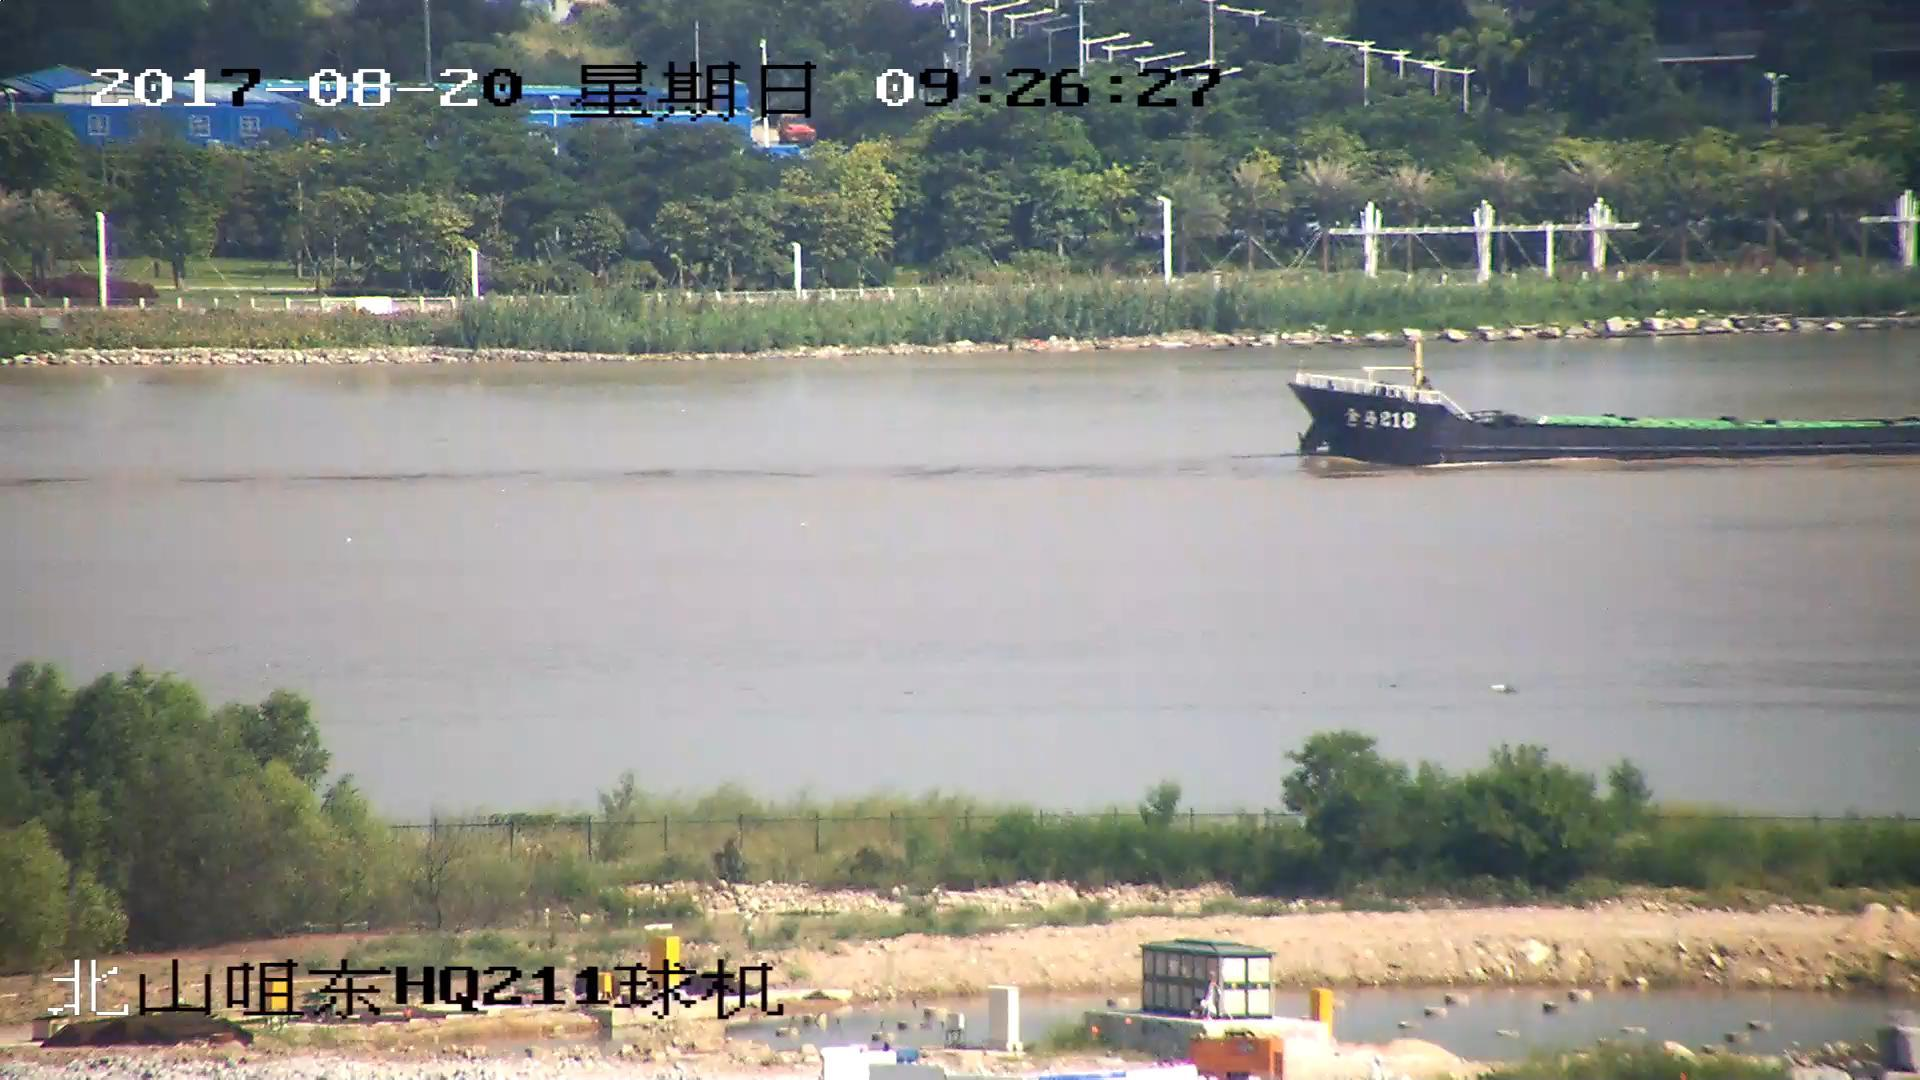Ship: (1298, 363, 1920, 454)
